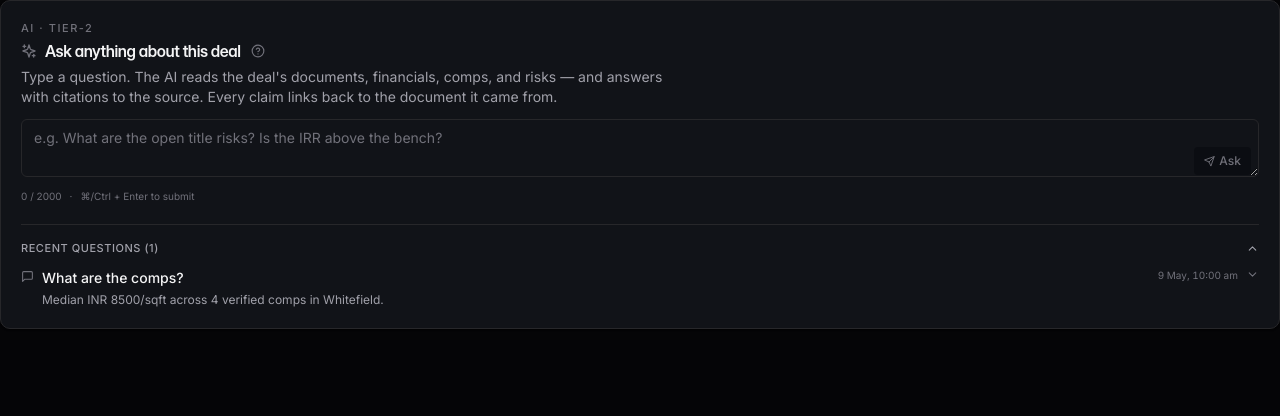
Test case: DealQaBox › renders persisted history rows with citation chips
Note: Click to expand
Click the text "What are the comps?": (113, 277) x1=42 y1=269 x2=184 y2=286
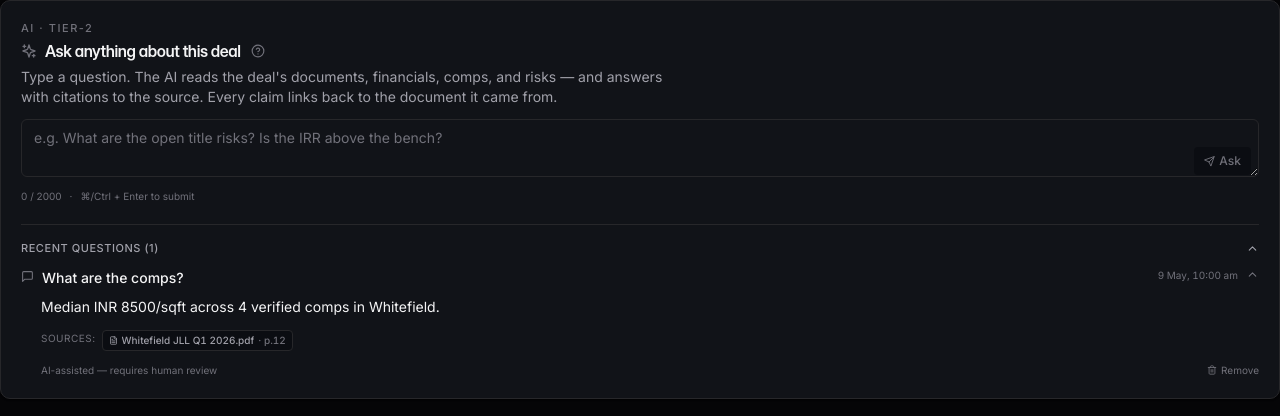
Expected: the text "Median INR 8500/sqft across 4 verified comps in Whitefield." is shown, x1=41 y1=298 x2=440 y2=315
Expected: the text "Whitefield JLL Q1 2026.pdf" is shown, x1=122 y1=333 x2=254 y2=348
